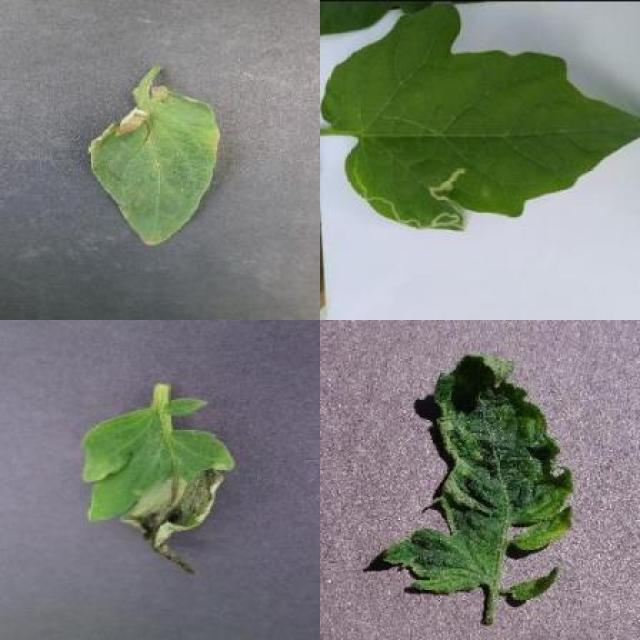Late Blight: (78, 388, 235, 582), (86, 84, 221, 250)
Leaf Miner: (320, 0, 640, 234)
Mosaic Virus: (377, 354, 574, 594)
